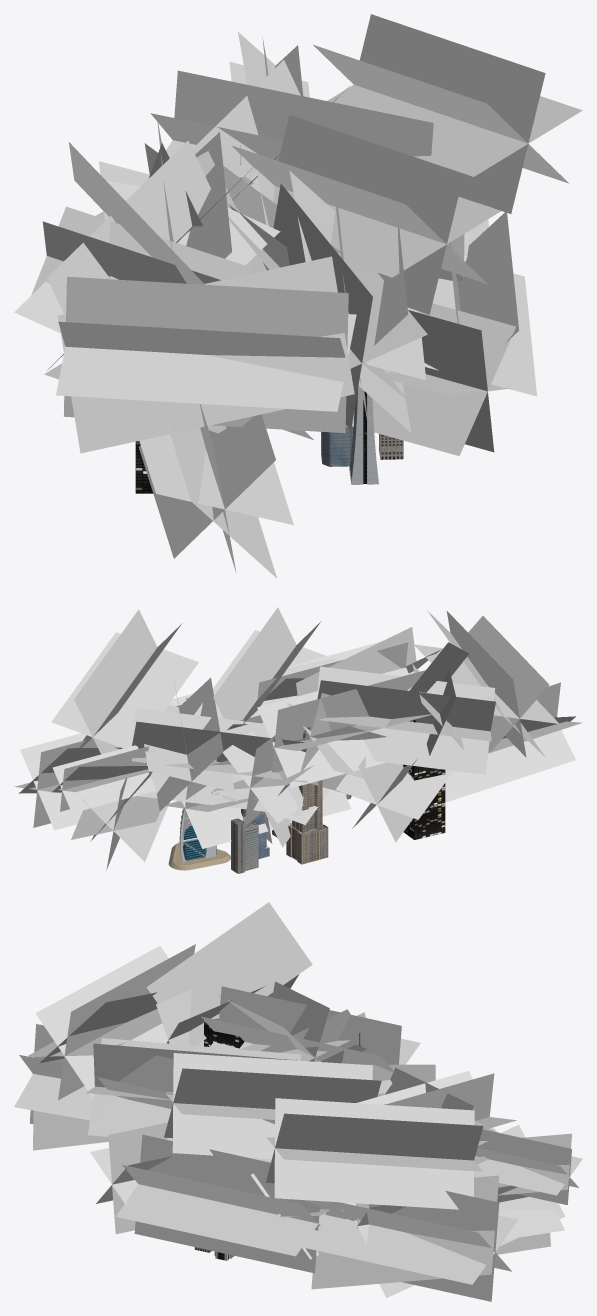
File: alpha_city_scene1.glb
3 renders of one model, top to bottom at view 1: azimuth 30°, elevation 25°; view 2: azimuth 150°, elevation 25°; view 3: azimuth 270°, elevation 25°, orthographic. The views are drawn at different scales.
Parts seen in each view (by area): view 1: Plane.073, Plane.072, Plane.010, Plane.043, Plane.075, Plane.028, Plane.005, Plane.074, Plane.011, Plane.046, Plane.070, Plane.044 (+28 smaller); view 2: Plane.045, Plane.011, Plane.010, Plane.046, Plane.043, Plane.070, Plane.048, Plane.020, Plane.019, Plane.074, Plane.049, Plane.029 (+48 smaller); view 3: Plane.009, Plane.014, Plane.010, Plane.042, Plane.015, Plane.016, Plane.043, Plane.006, Plane.019, Plane.051, Plane.074, Plane.007 (+38 smaller).
Part boxes in pixels (box(x1,y1,x2,y2)): Plane.073: box(63, 276, 348, 433); Plane.072: box(56, 314, 356, 411); Plane.010: box(359, 14, 545, 213); Plane.043: box(278, 115, 463, 314); Plane.075: box(58, 256, 354, 453); Plane.028: box(174, 70, 433, 156); Plane.005: box(352, 303, 515, 456); Plane.074: box(58, 321, 353, 387); Plane.011: box(327, 84, 582, 176); Plane.046: box(47, 140, 210, 314); Plane.070: box(138, 414, 275, 558); Plane.044: box(273, 186, 500, 277); Plane.045: box(317, 666, 495, 774); Plane.011: box(51, 632, 198, 748); Plane.010: box(74, 609, 157, 754); Plane.046: box(317, 680, 495, 731); Plane.043: box(213, 607, 296, 720); Plane.070: box(445, 730, 575, 802); Plane.048: box(131, 708, 303, 815); Plane.020: box(257, 667, 408, 787); Plane.019: box(271, 670, 425, 772); Plane.074: box(468, 616, 549, 752); Plane.049: box(132, 721, 306, 762); Plane.029: box(156, 677, 223, 811); Plane.009: box(274, 1098, 474, 1209); Plane.014: box(146, 902, 312, 1045); Plane.010: box(265, 1113, 483, 1183); Plane.042: box(172, 1053, 372, 1159); Plane.015: box(116, 1184, 325, 1256); Plane.016: box(134, 1134, 319, 1273); Plane.043: box(164, 1068, 381, 1138); Plane.006: box(302, 1215, 517, 1284); Plane.019: box(219, 986, 401, 1064); Plane.051: box(311, 1175, 499, 1289); Plane.074: box(35, 946, 168, 1097); Plane.007: box(369, 1191, 499, 1301).
Size of the model in its own units: 269 by 137 by 284.
9 materials, 4 textured.
